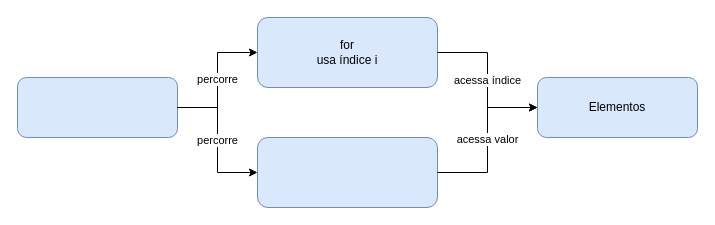
The diagram is 715 pixels wide and 225 high, and some of its shapes have lost their labels. Here are the shapes that lost their labels. From the top down, the box of each, then its label:
(16, 76, 178, 138): Array
(256, 136, 438, 208): for-each usa valor
